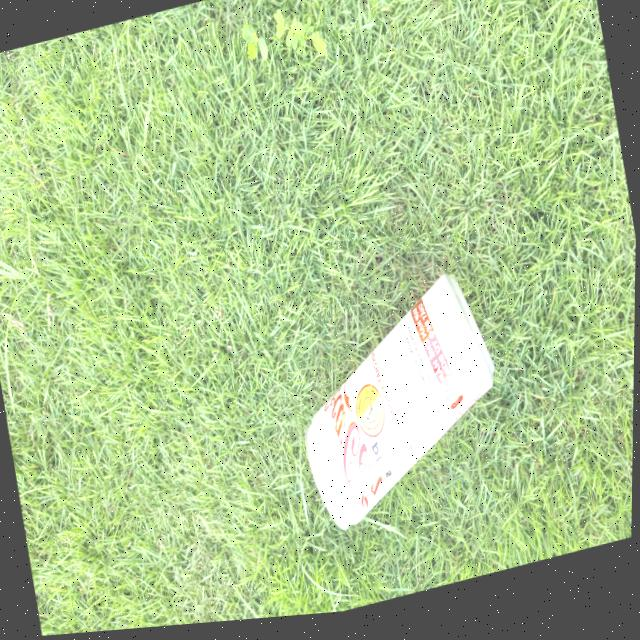Coca Cola Plus: (273, 254, 521, 579)
